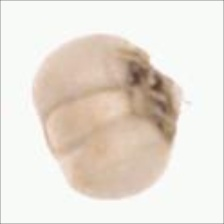L5: (116, 42, 182, 147), (41, 84, 129, 159)
L6: (28, 30, 182, 201)
